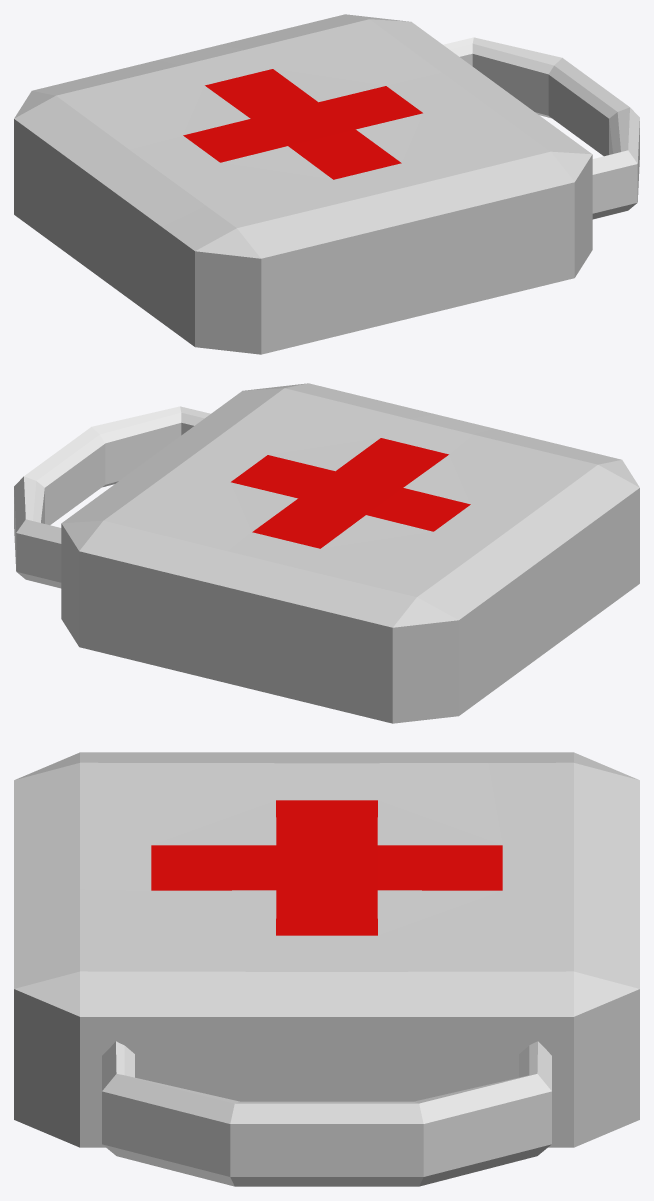
File: health-pack.fbx
3 renders of one model, top to bottom at view 1: azimuth 30°, elevation 25°; view 2: azimuth 150°, elevation 25°; view 3: azimuth 270°, elevation 25°, orthographic. The views are drawn at different scales.
Visible parts, largest first — view 1: Cube, Cube.001; view 2: Cube, Cube.001; view 3: Cube, Cube.001.
Boxes of the visible parts, box(x1,y1,x2,y2) form: Cube: box(14, 14, 592, 354); Cube.001: box(443, 37, 639, 219); Cube: box(61, 383, 639, 723); Cube.001: box(14, 406, 210, 588); Cube: box(14, 752, 639, 1147); Cube.001: box(102, 1041, 551, 1186).
Bounding box in the file's own units: 252 × 58.47 × 200.
